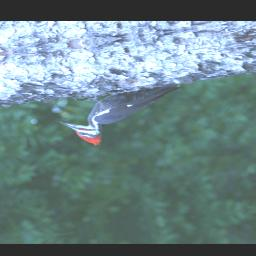Woodpecker: (47, 80, 200, 150)
